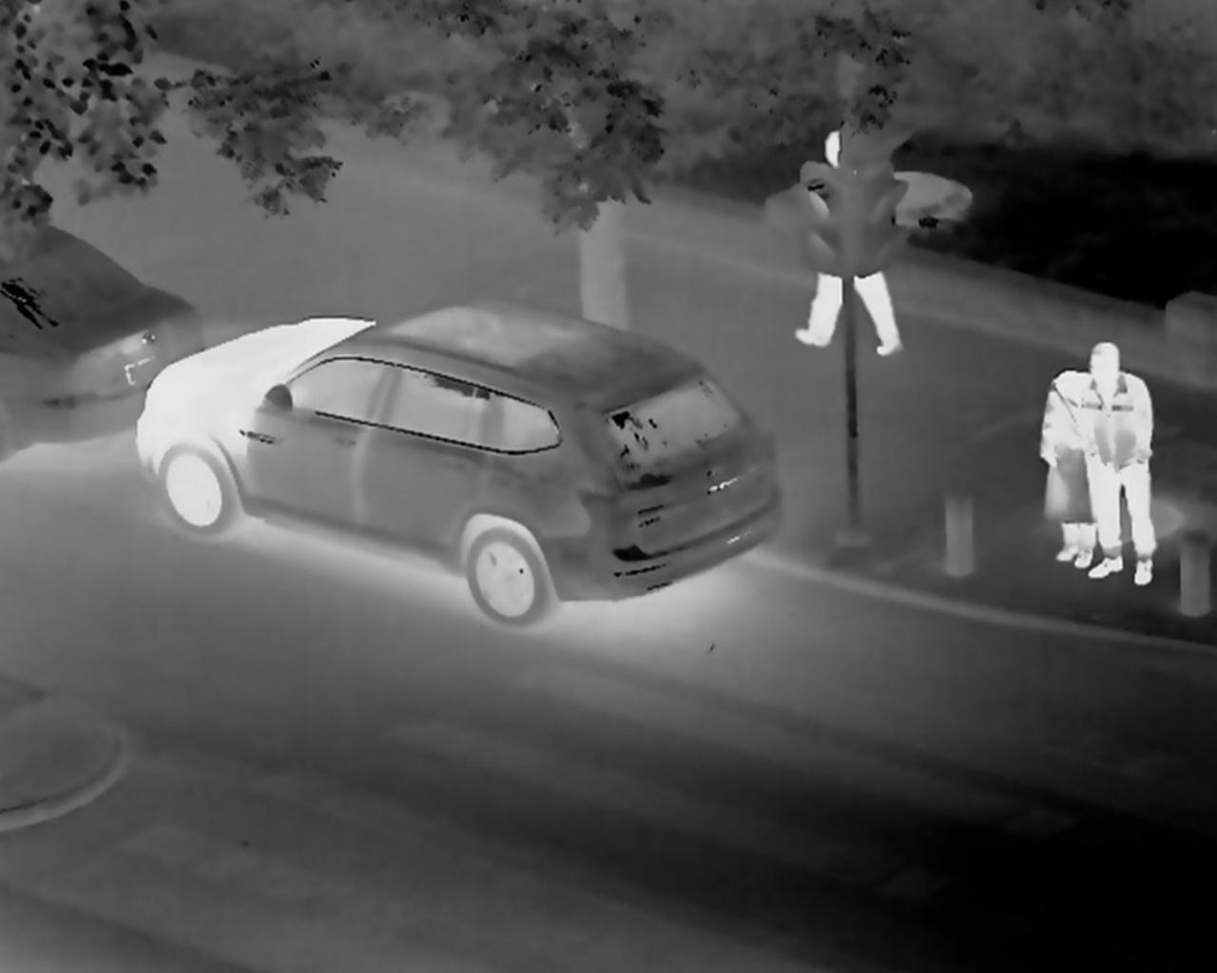person: (1084, 333, 1164, 603), (812, 143, 905, 359), (1033, 352, 1077, 550)
